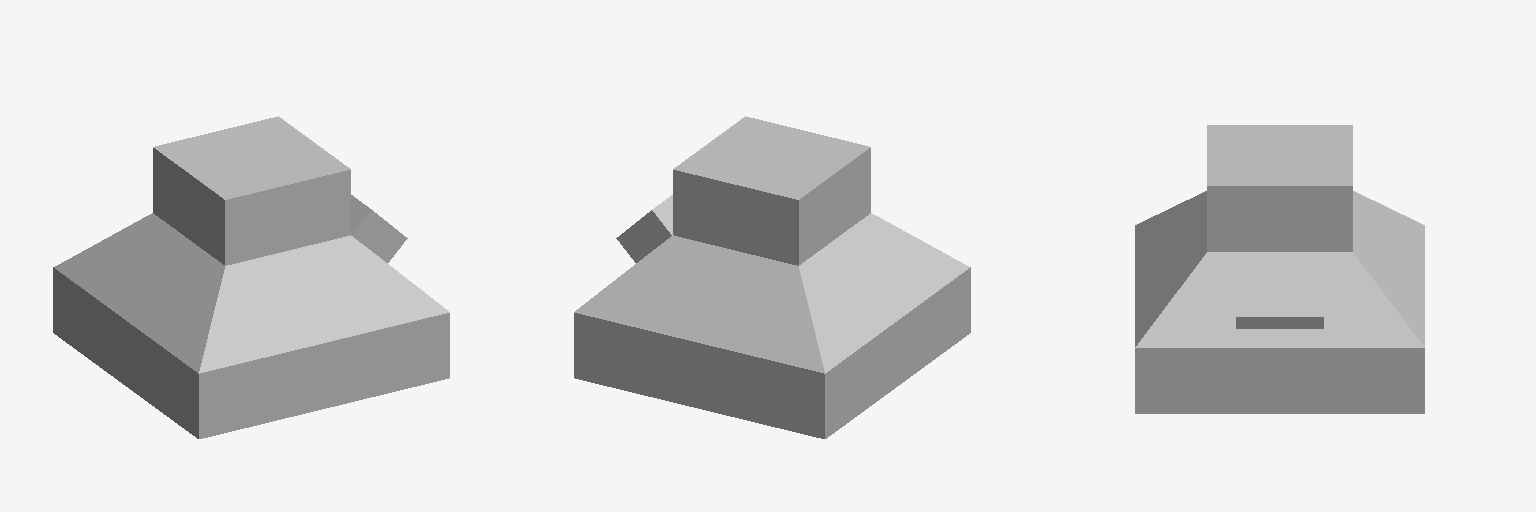
File: node_stabilizer.obj
The picture shows the model from 3 angles: view 1: azimuth 30°, elevation 25°; view 2: azimuth 150°, elevation 25°; view 3: azimuth 270°, elevation 25°; orthographic projection.
Parts seen in each view (by area): view 1: lock, piston; view 2: lock, piston; view 3: lock, piston.
Boxes of the visible parts, x1,y1,x2,y2 form: lock: [53, 116, 449, 438]; piston: [351, 195, 407, 262]; lock: [574, 116, 970, 438]; piston: [616, 195, 672, 262]; lock: [1135, 125, 1424, 413]; piston: [1236, 263, 1323, 328].
Size of the model in its own units: 1.03 by 0.75 by 1.